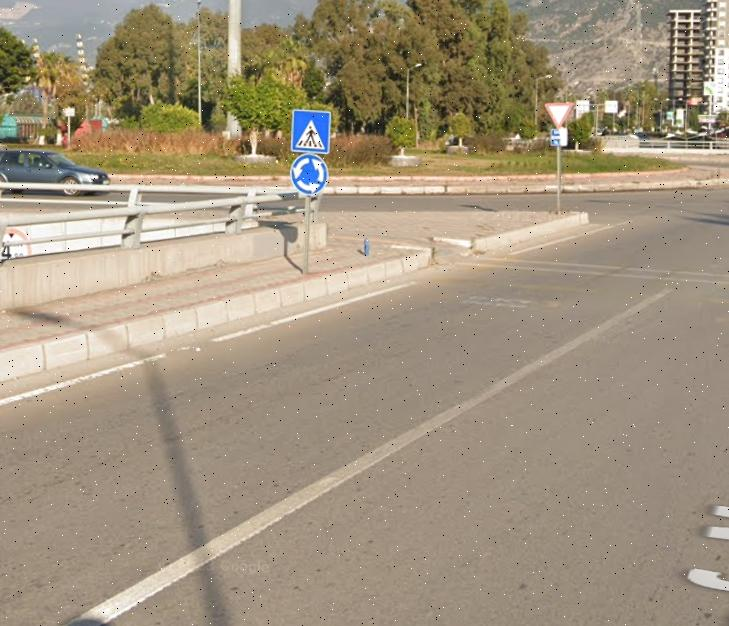crossroads: (291, 155, 327, 195)
